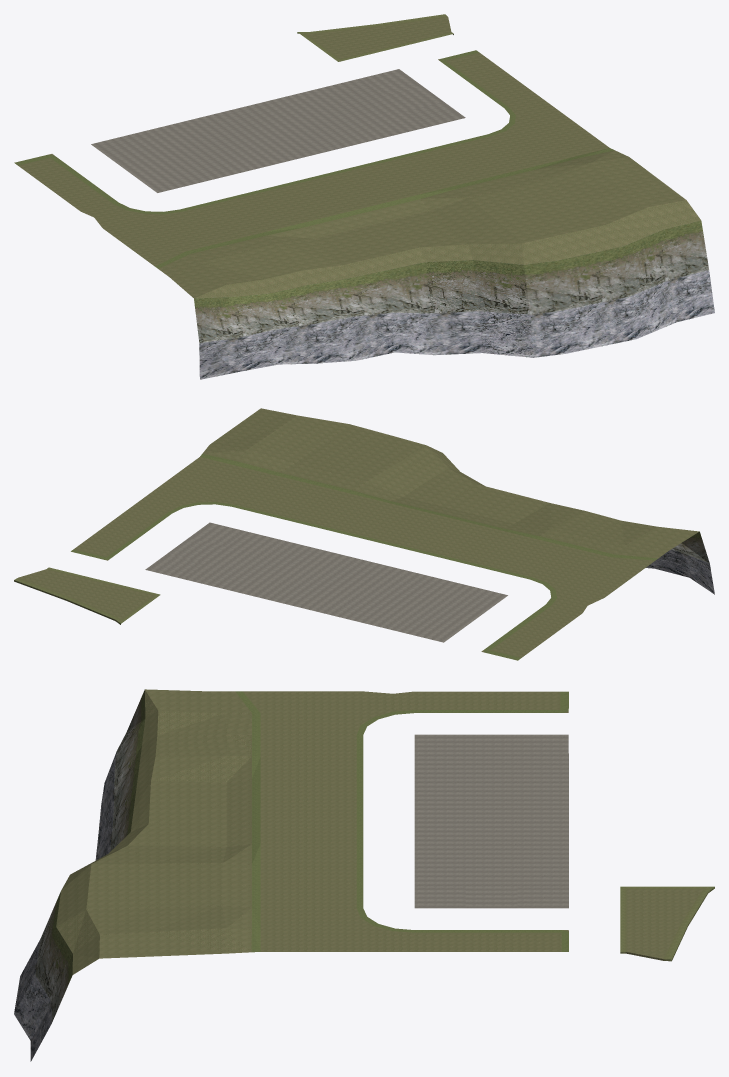
Rendered from vgsecoast06.obj.
The picture shows the model from 3 angles, top to bottom: view 1: azimuth 30°, elevation 25°; view 2: azimuth 150°, elevation 25°; view 3: azimuth 270°, elevation 25°; orthographic projection. The views are drawn at different scales.
Parts seen in each view (by area): view 1: vgsEcoast06; view 2: vgsEcoast06; view 3: vgsEcoast06.
Boxes of the visible parts, left/top/right/bottom form: vgsEcoast06: left=14, top=14, right=714, bottom=379; vgsEcoast06: left=14, top=408, right=714, bottom=660; vgsEcoast06: left=14, top=689, right=714, bottom=1061.
Size of the model in its own units: 251 by 48.33 by 273.
Materials: 8 (8 with a texture image).
